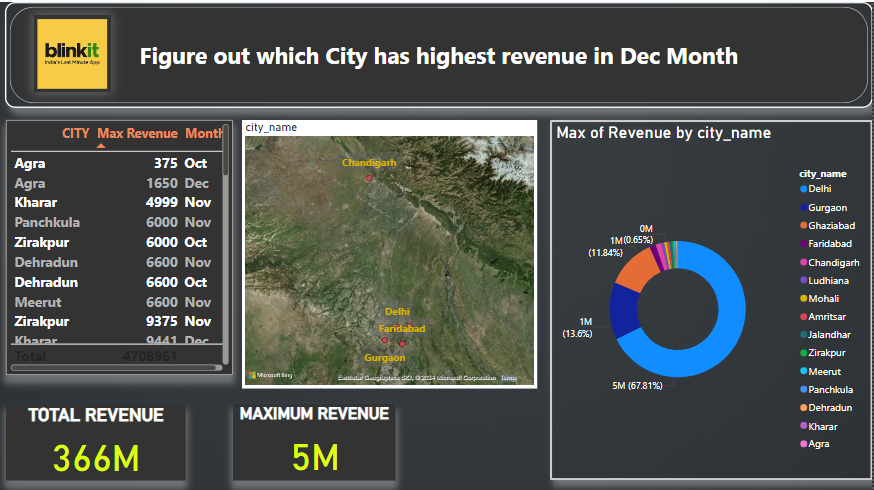

The dashboard page shown, as its layout file describes it:
{"tool":"powerbi","page":{"name":"12","canvas":[1280,720],"ordinal":12},"visuals":[{"type":"shape","box":[10,0,1270,155],"z":0},{"type":"image","box":[53.3,18.3,111.7,113.3],"z":1000},{"type":"tableEx","fields":{"Values":["oil and dry fruits.city_name","Max(oil and dry fruits.Revenue)","oil and dry fruits.Month"]},"box":[11.7,173.3,331.7,373.3],"z":2000},{"type":"card","title":"TOTAL REVENUE","fields":{"Values":["Sum(oil and dry fruits.Revenue)"]},"box":[11.7,588.3,263.3,111.7],"z":3000},{"type":"card","title":"MAXIMUM REVENUE","fields":{"Values":["Max(oil and dry fruits.maxrevenue)"]},"box":[343.3,588.3,238.3,111.7],"z":4000},{"type":"donutChart","fields":{"Y":["Max(oil and dry fruits.Revenue)"],"Category":["oil and dry fruits.city_name"]},"box":[808.3,173.3,471.7,526.7],"z":5000},{"type":"map","fields":{"Category":["oil and dry fruits.city_name"]},"box":[356.7,173.3,431.7,393.3],"z":6000}]}

Visuals, with their boxes in screenshot pixels (x1, y1, x2, y2), scaled from the page's 1280x720 canvas onto the 874x490 screenshot:
shape: crop(7, 0, 873, 105)
image: crop(36, 12, 113, 90)
tableEx - oil and dry fruits.city_name x Max(oil and dry fruits.Revenue): crop(8, 118, 234, 372)
"TOTAL REVENUE" card: crop(8, 400, 188, 476)
"MAXIMUM REVENUE" card: crop(234, 400, 397, 476)
donutChart - Max(oil and dry fruits.Revenue) x oil and dry fruits.city_name: crop(552, 118, 873, 476)
map - oil and dry fruits.city_name: crop(244, 118, 538, 386)
